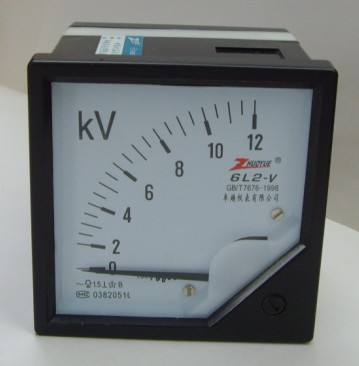pointer: (50, 78, 314, 324)
